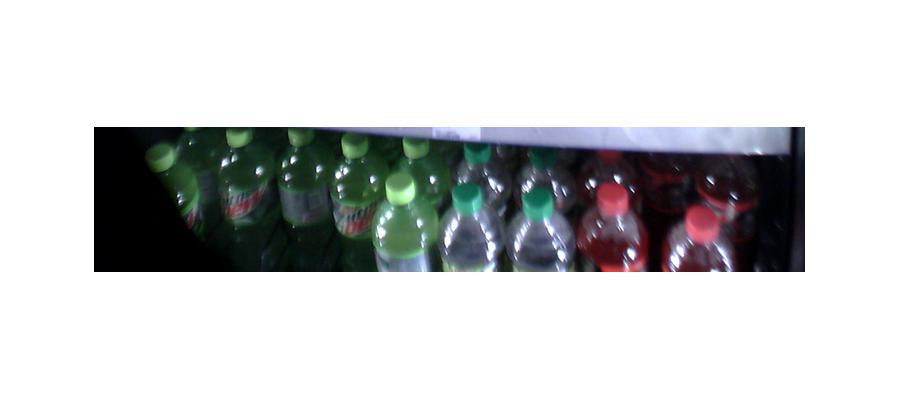bottle: (211, 130, 276, 265), (276, 129, 334, 269), (507, 160, 575, 276), (438, 169, 501, 274), (374, 167, 435, 275), (578, 179, 648, 273), (330, 135, 383, 256), (664, 196, 727, 277)
